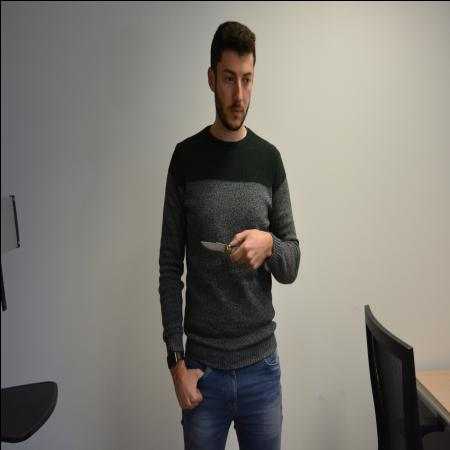long weapon: (198, 228, 246, 267)
